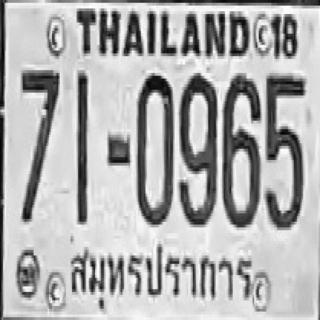N00: (136, 73, 173, 224)
N01: (75, 72, 87, 223)
N05: (265, 73, 305, 228)
N06: (222, 73, 260, 224)
N07: (20, 67, 58, 219)
N09: (178, 73, 216, 224)
P57: (62, 238, 256, 304)
